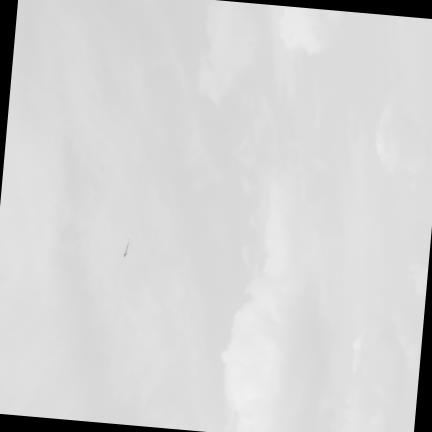Shahed: (123, 237, 130, 257)
